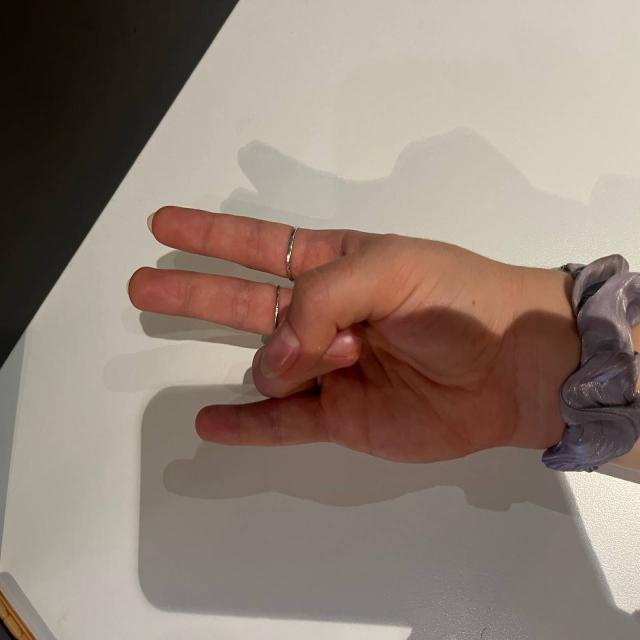n: (128, 182, 528, 486)
